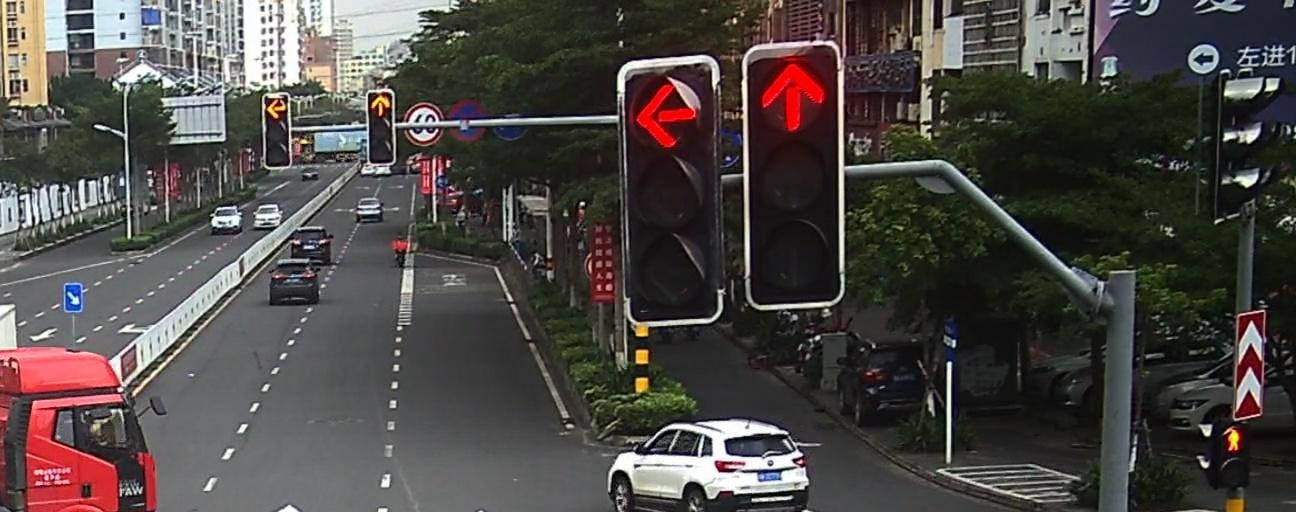redleft: (633, 79, 699, 151), (263, 97, 290, 122)
redpeople: (1218, 423, 1245, 453)
redstraight: (754, 57, 829, 134), (368, 94, 391, 117)
